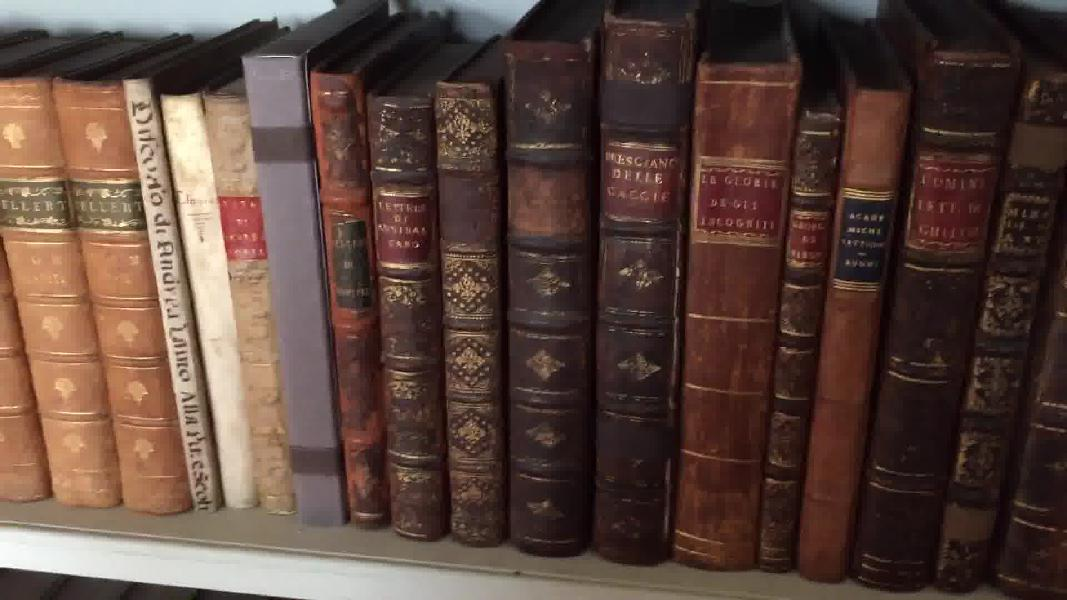Aa6-24: (115, 65, 236, 516)
Aa6-25: (150, 88, 267, 520)
Aa6-26: (198, 77, 309, 544)
Aa6-27: (238, 42, 355, 539)
Aa6-28: (305, 61, 402, 551)
Aa6-29: (355, 90, 456, 557)
Aa6-30: (419, 73, 511, 548)
Aa6-31: (494, 35, 600, 585)
Aa6-32: (583, 17, 694, 570)
Aa6-33: (674, 24, 783, 570)
Aa6-34: (754, 88, 835, 584)
Aa6-35: (800, 47, 912, 600)
Aa6-36: (852, 24, 1014, 600)
Aa6-37: (925, 28, 1067, 595)
